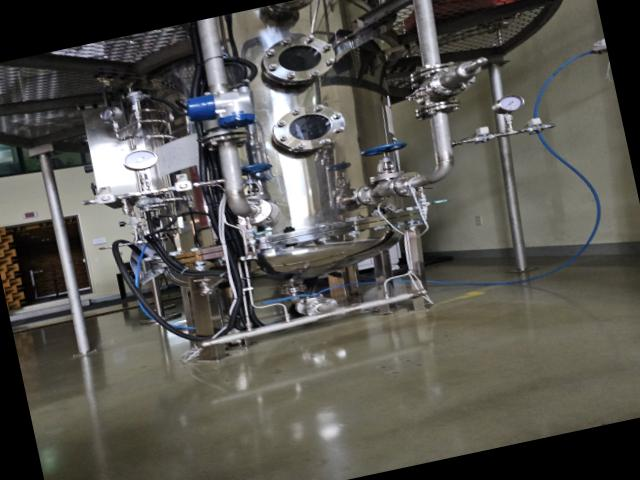Flange: (256, 28, 341, 90), (266, 98, 350, 160)
Flush Ring: (224, 194, 274, 229), (405, 59, 464, 85), (196, 124, 252, 151), (387, 169, 428, 201), (299, 294, 341, 322), (356, 178, 392, 208), (414, 98, 462, 120), (269, 0, 318, 13)
GasRegulator: (97, 83, 179, 154)
Nuts: (170, 176, 198, 194), (91, 190, 119, 207), (468, 129, 496, 146), (523, 121, 551, 137)
Piston Valve: (358, 139, 412, 183), (237, 160, 280, 204)
Pressure Gage: (120, 146, 166, 196), (492, 91, 530, 135)
